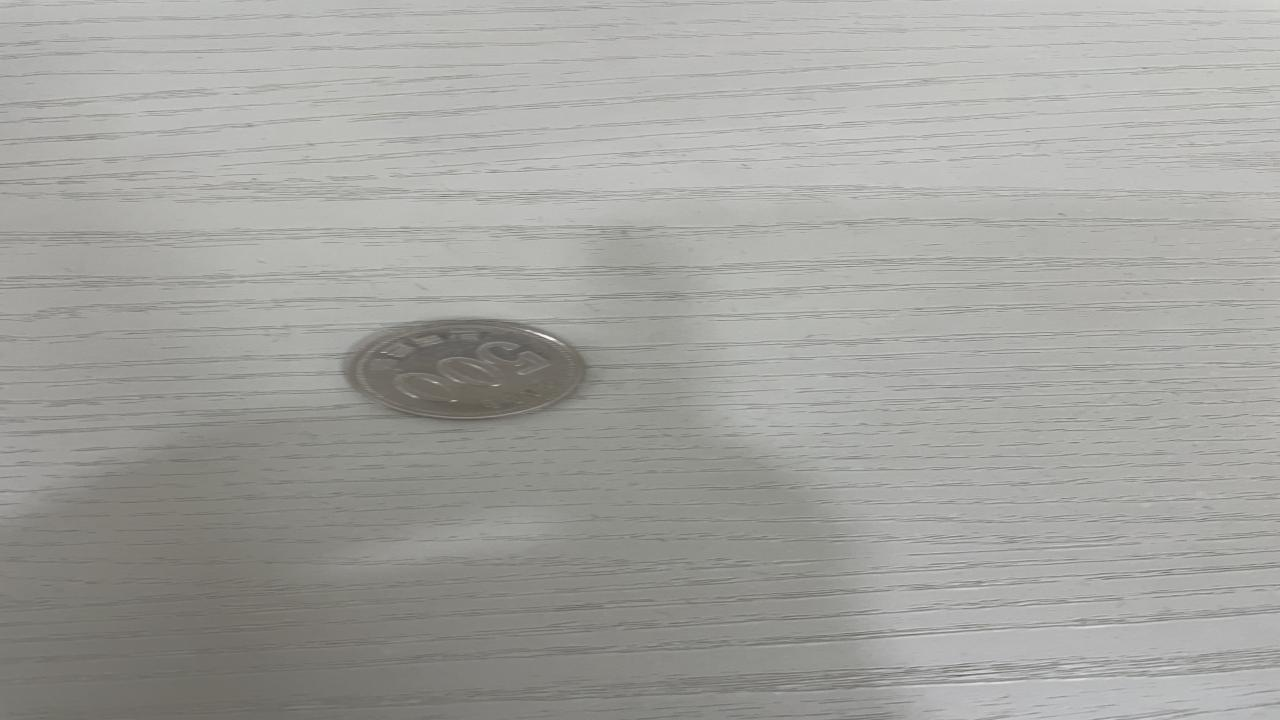coin: (335, 319, 593, 421)
